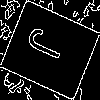J: (24, 24, 75, 66)
